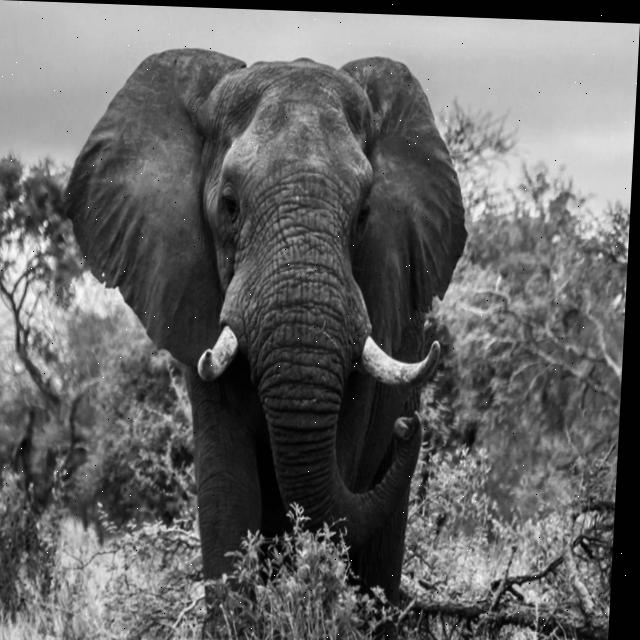Elephant: (39, 41, 477, 640)
